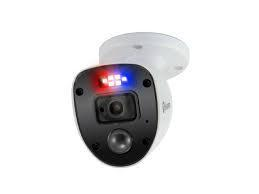maru: (71, 33, 189, 167)
